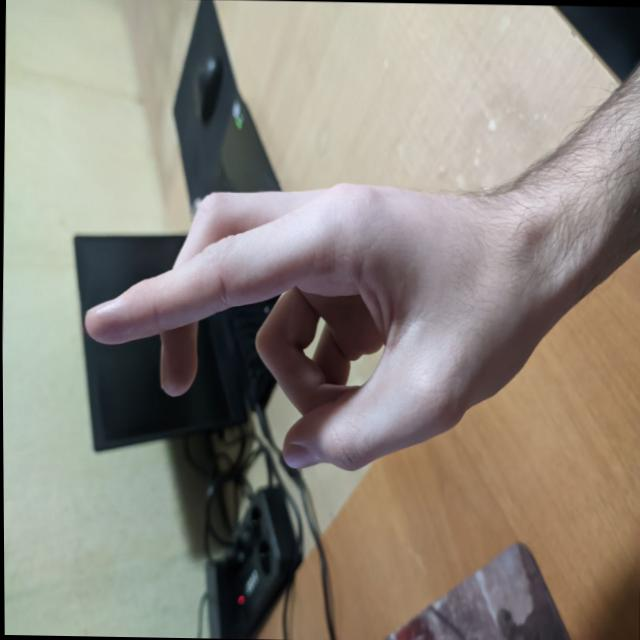b: (62, 148, 474, 472)
